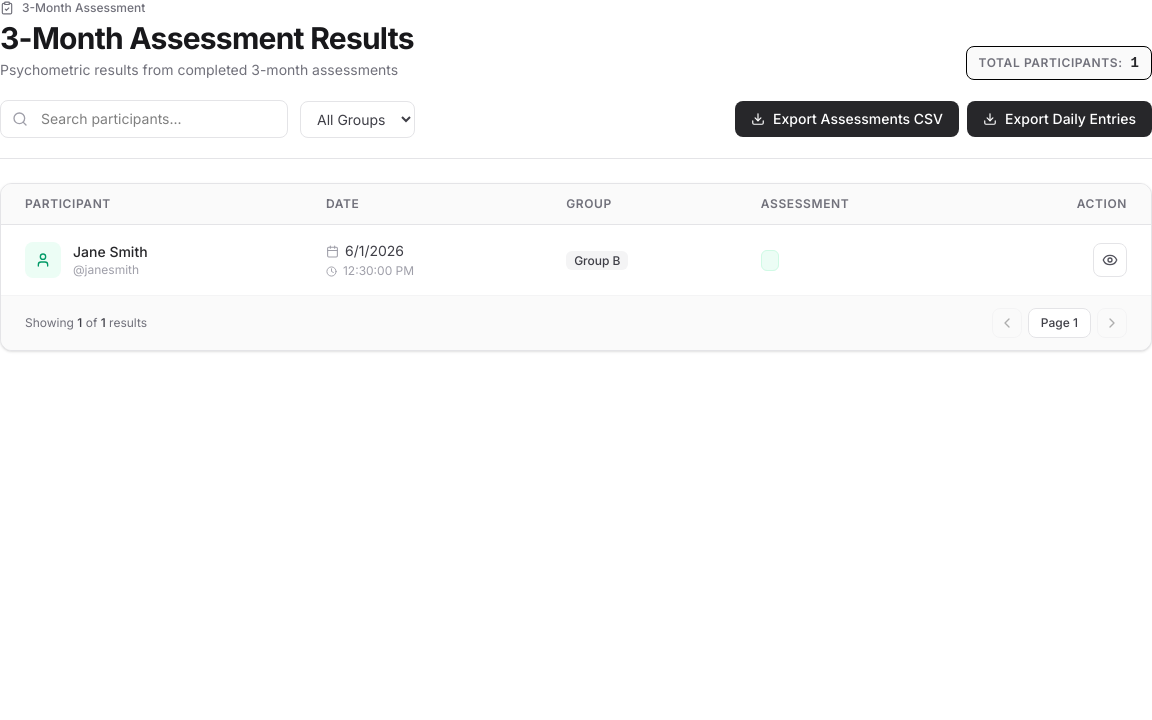
Test: AdminT2ResultsPage › retrieves and displays T2 response detail inside the modal
Expected: the text "Jane Smith" is shown, left=73, top=242, right=148, bottom=262
Step 1. Click the button named "View Details" → x=1110, y=260, box left=1093, top=243, right=1127, bottom=277
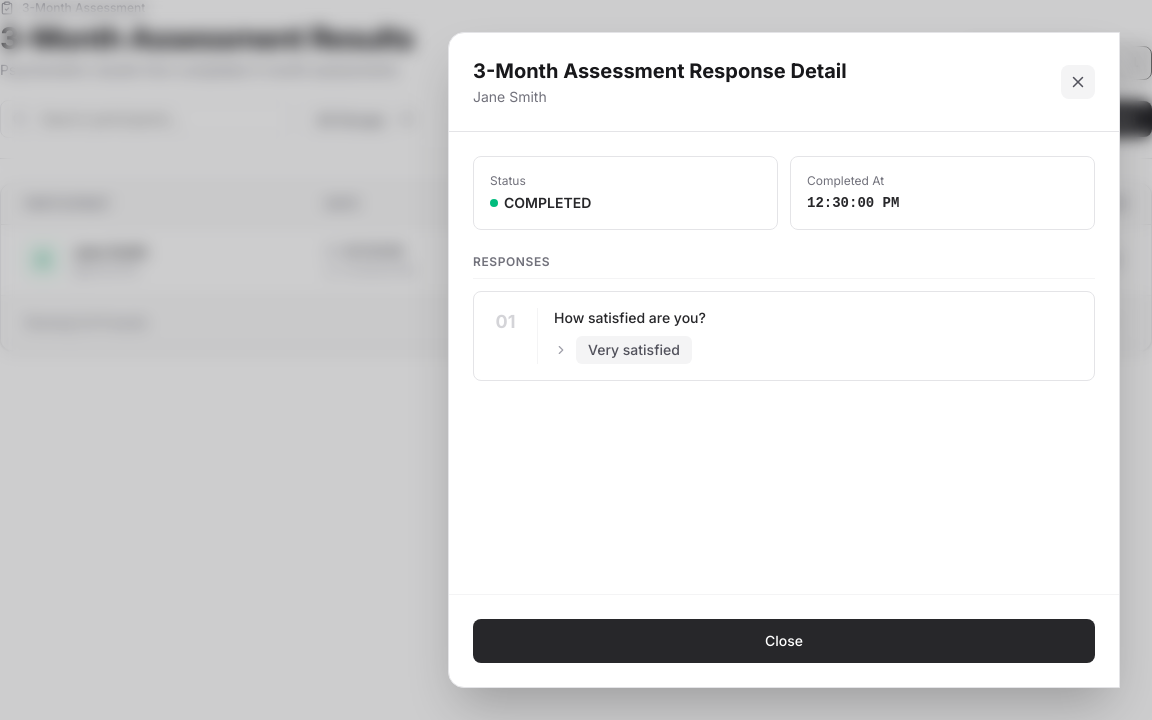
Expected: the heading "3-Month Assessment Response Detail" is shown, left=473, top=57, right=847, bottom=85
Expected: the text "How satisfied are you?" is shown, left=554, top=309, right=706, bottom=326
Expected: the text "Very satisfied" is shown, left=576, top=336, right=692, bottom=364
